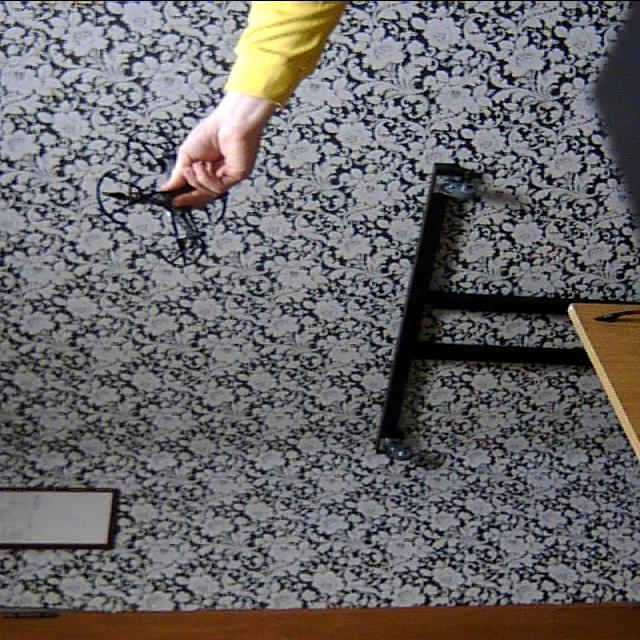drone: (90, 116, 240, 272)
